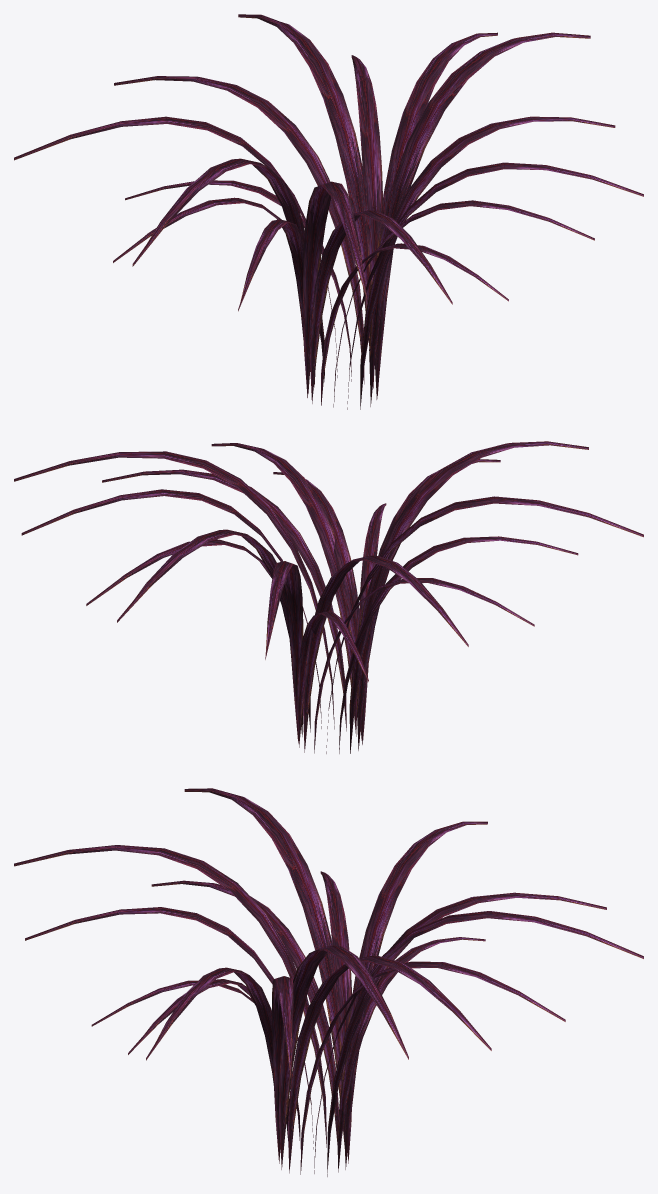
Rendered from finegrass_meadow_01.glb.
The picture shows the model from 3 angles, top to bottom: view 1: azimuth 30°, elevation 25°; view 2: azimuth 150°, elevation 25°; view 3: azimuth 270°, elevation 25°; orthographic projection. The views are drawn at different scales.
Parts seen in each view (by area): view 1: export; view 2: export; view 3: export.
Boxes of the visible parts, x1,y1,x2,y2 form: export: (14, 14, 643, 409); export: (14, 441, 643, 753); export: (14, 788, 643, 1176).
Bounding box in the file's own units: 1.49 × 0.7338 × 1.46.
1 material, 1 textured.
